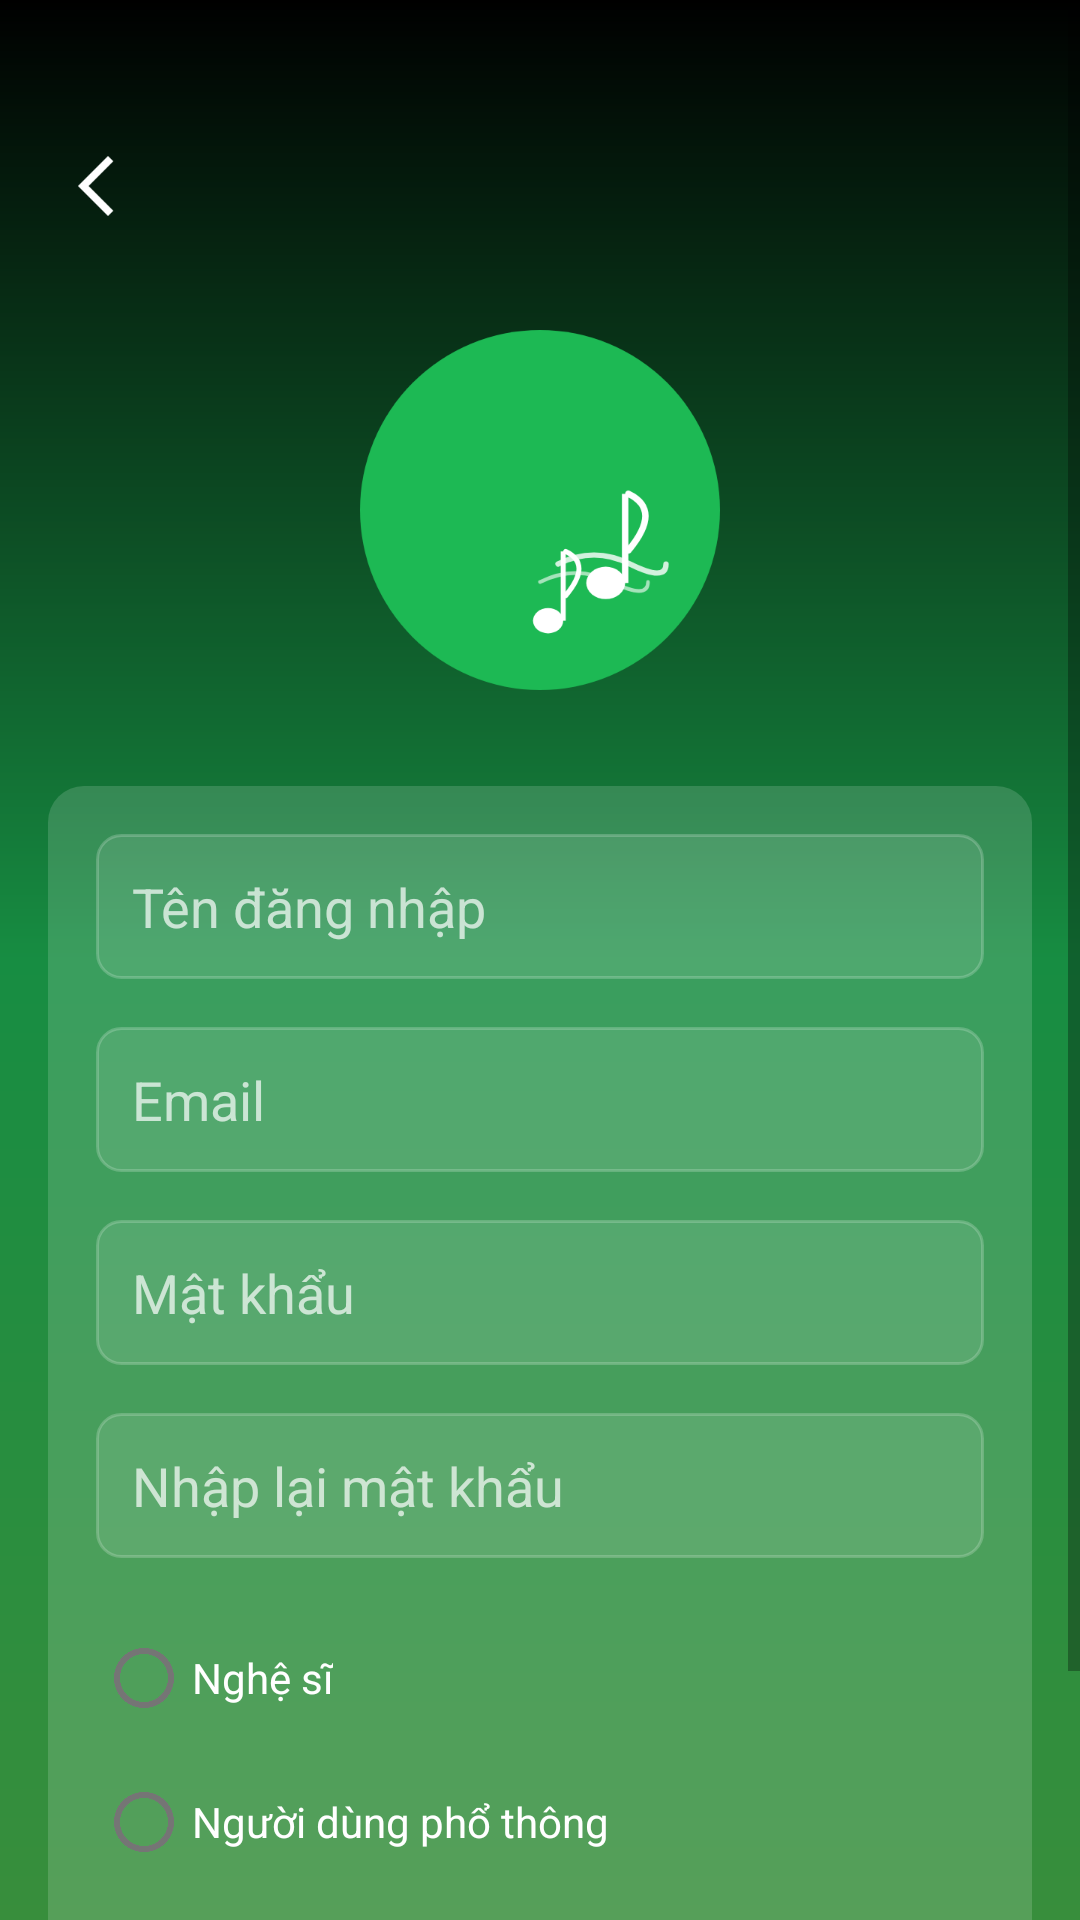

Icon click points for this 1080px×1920px phone screenshot, format [x,y]:
back: [96,186]
